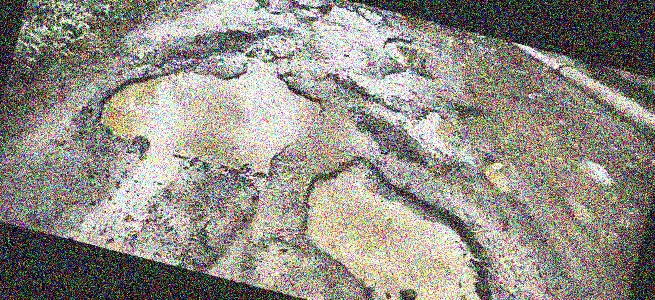pothole: (280, 143, 547, 300), (91, 25, 333, 192), (405, 103, 474, 161), (455, 103, 515, 146), (377, 31, 430, 75), (477, 158, 524, 198), (309, 0, 372, 26), (227, 0, 264, 13)
